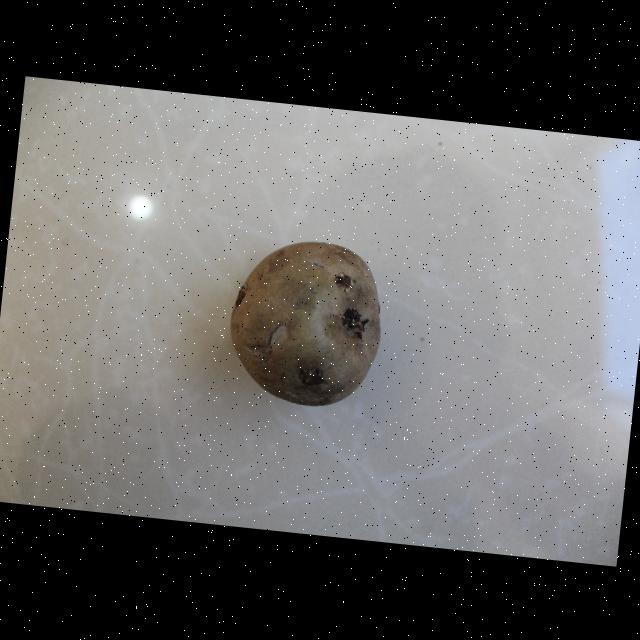Damaged potato: (248, 226, 422, 413)
